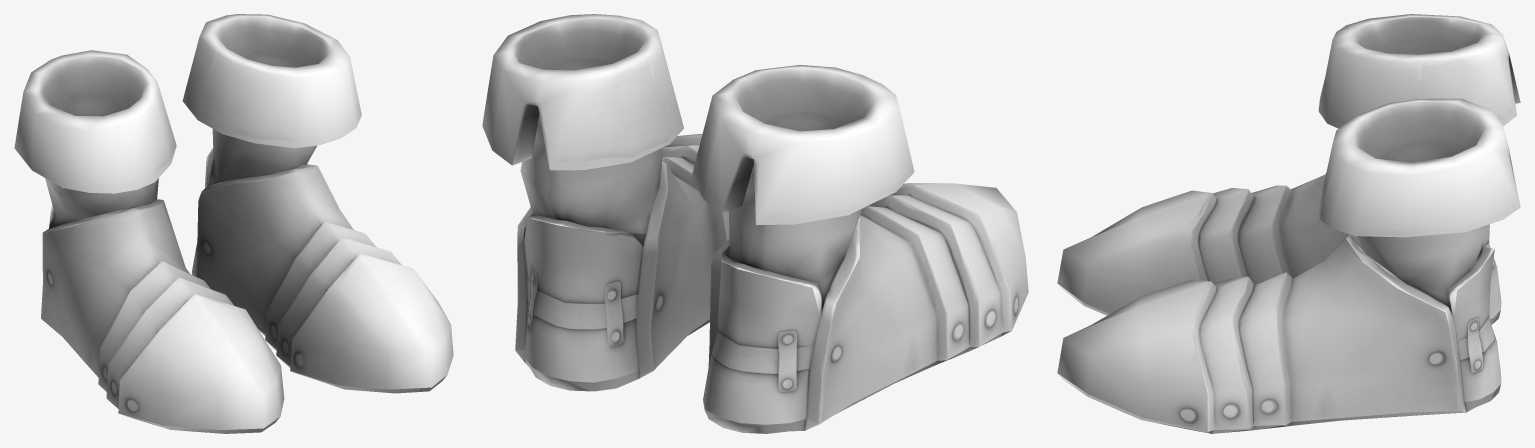
File: 043_plate_boots_lp.fbx
3 views of the same model, side by side, from view 1: azimuth 30°, elevation 25°; view 2: azimuth 150°, elevation 25°; view 3: azimuth 270°, elevation 25° (orthographic). The views are drawn at different scales.
Visible parts, largest first — view 1: 043_plate_boots_lp; view 2: 043_plate_boots_lp; view 3: 043_plate_boots_lp.
Boxes of the visible parts, bbox=[...] form: 043_plate_boots_lp: bbox=[14, 14, 453, 433]; 043_plate_boots_lp: bbox=[482, 14, 1028, 433]; 043_plate_boots_lp: bbox=[1057, 14, 1520, 433].
Size of the model in its own units: 38.52 by 28.76 by 43.83.
